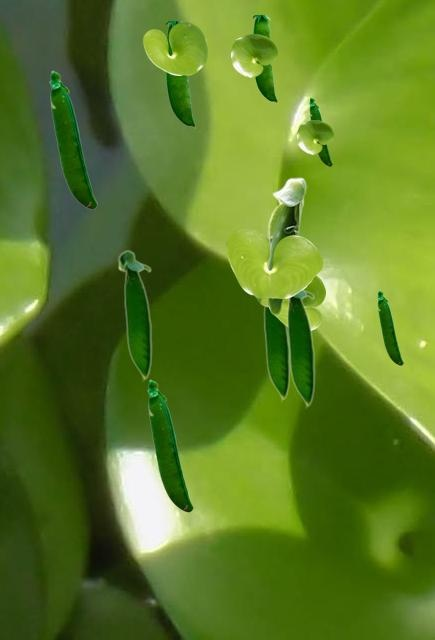pea: (49, 70, 96, 208), (147, 379, 192, 511), (266, 177, 306, 315), (117, 249, 151, 381), (285, 288, 314, 408), (166, 21, 194, 127), (262, 307, 289, 401), (253, 15, 276, 102), (377, 290, 402, 364), (309, 97, 331, 165)
